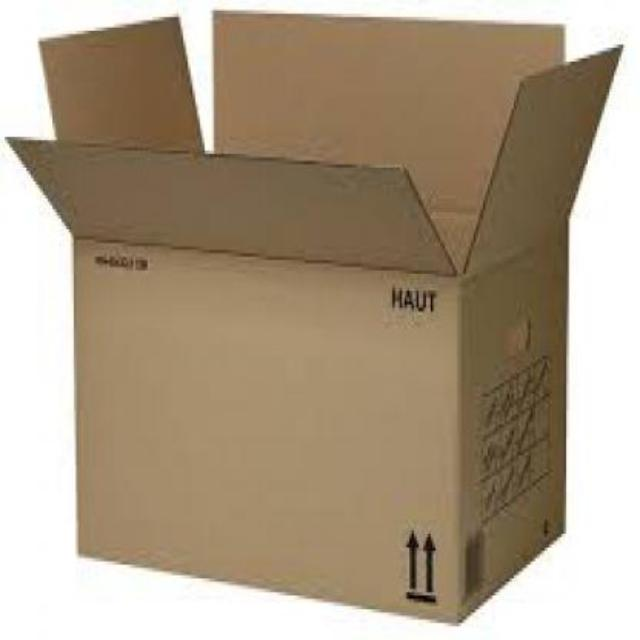cardboard_box: (34, 8, 622, 620)
